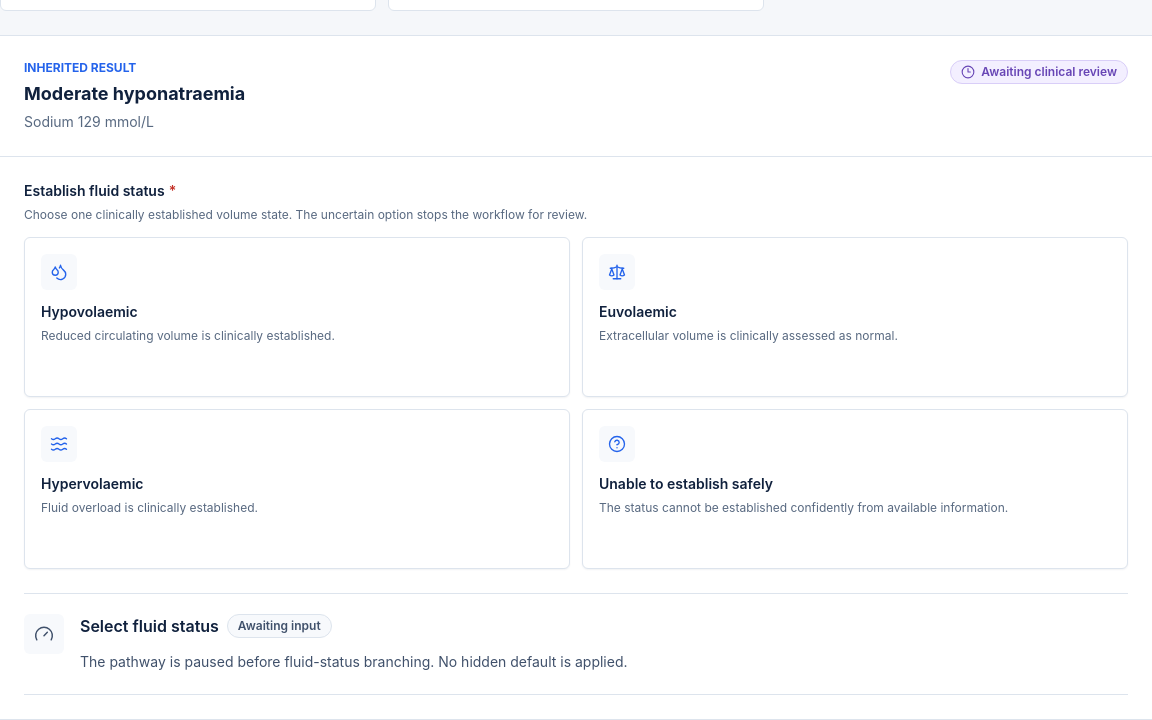
Test: hyponatraemia fluid-status review › skips the sign check for hypervolaemia and stops safely for uncertainty
(page scrolled)
Click the radio button labelled "Hypervolaemic Fluid overload is clinically established." at [297, 489], box [24,409,570,569]
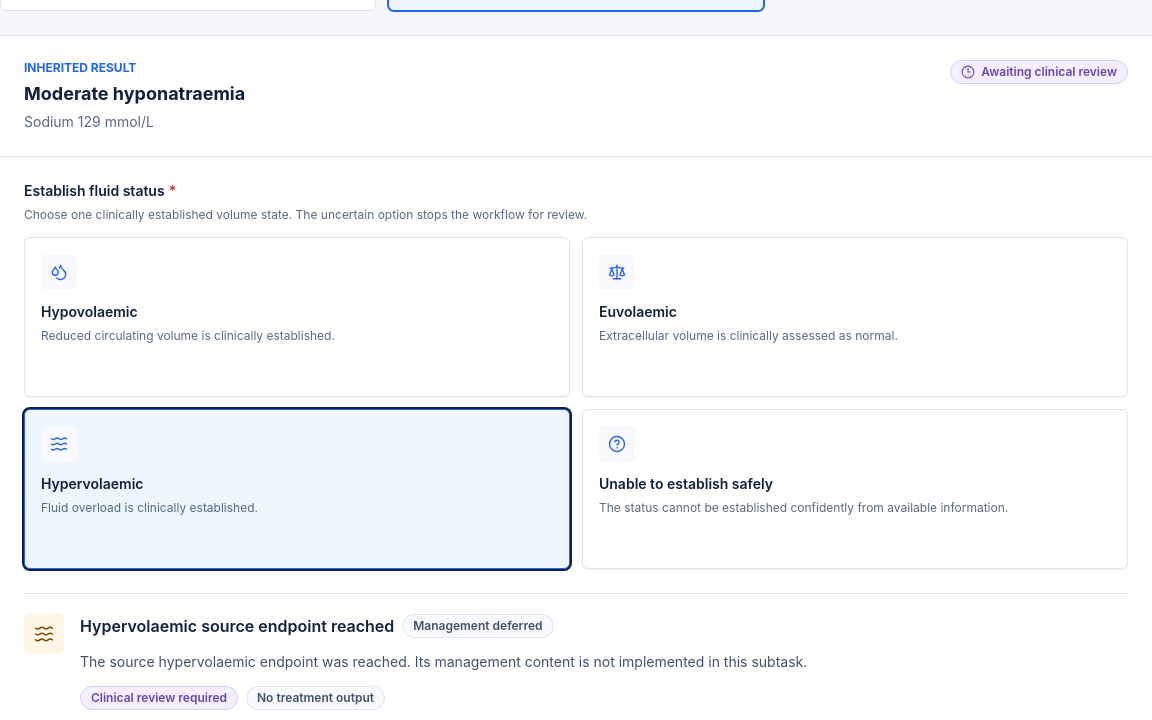
expect the heading "Hypervolaemic source endpoint reached" is shown: met, box [80,614,394,638]
Click the radio button labelled "Unable to establish safely" at [855, 489], box [582,409,1128,569]
(page scrolled)
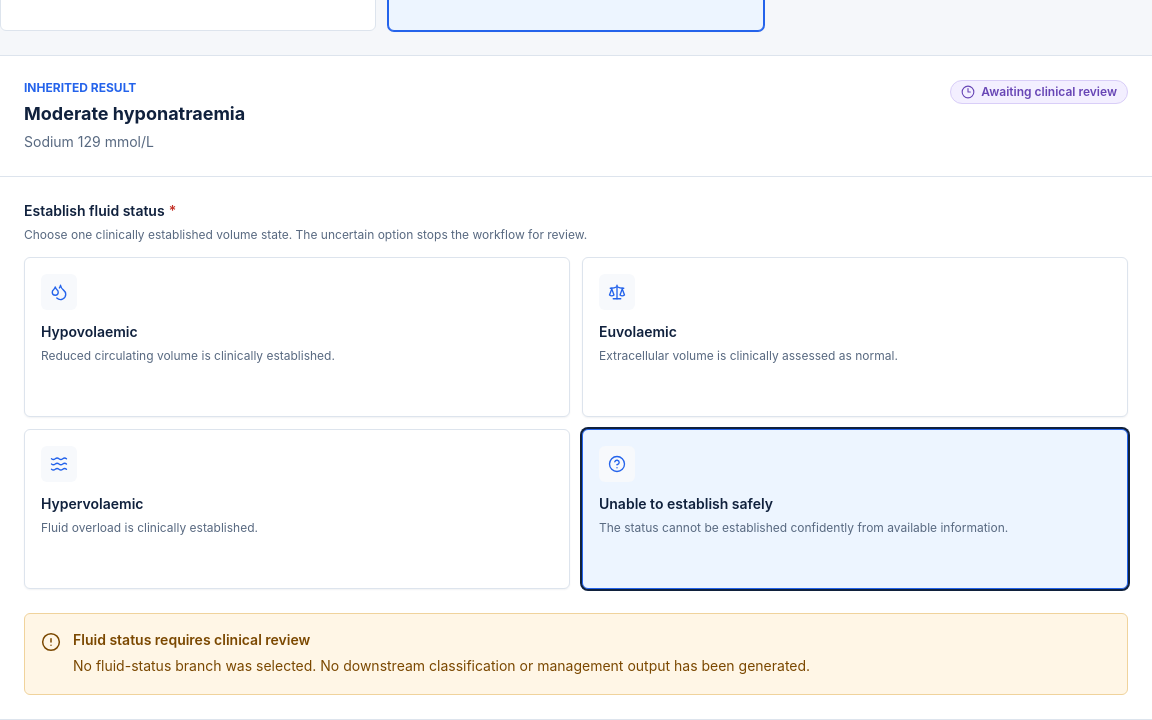
expect the element "Fluid status requires clinical review" is shown: met, box [24,613,1128,695]
